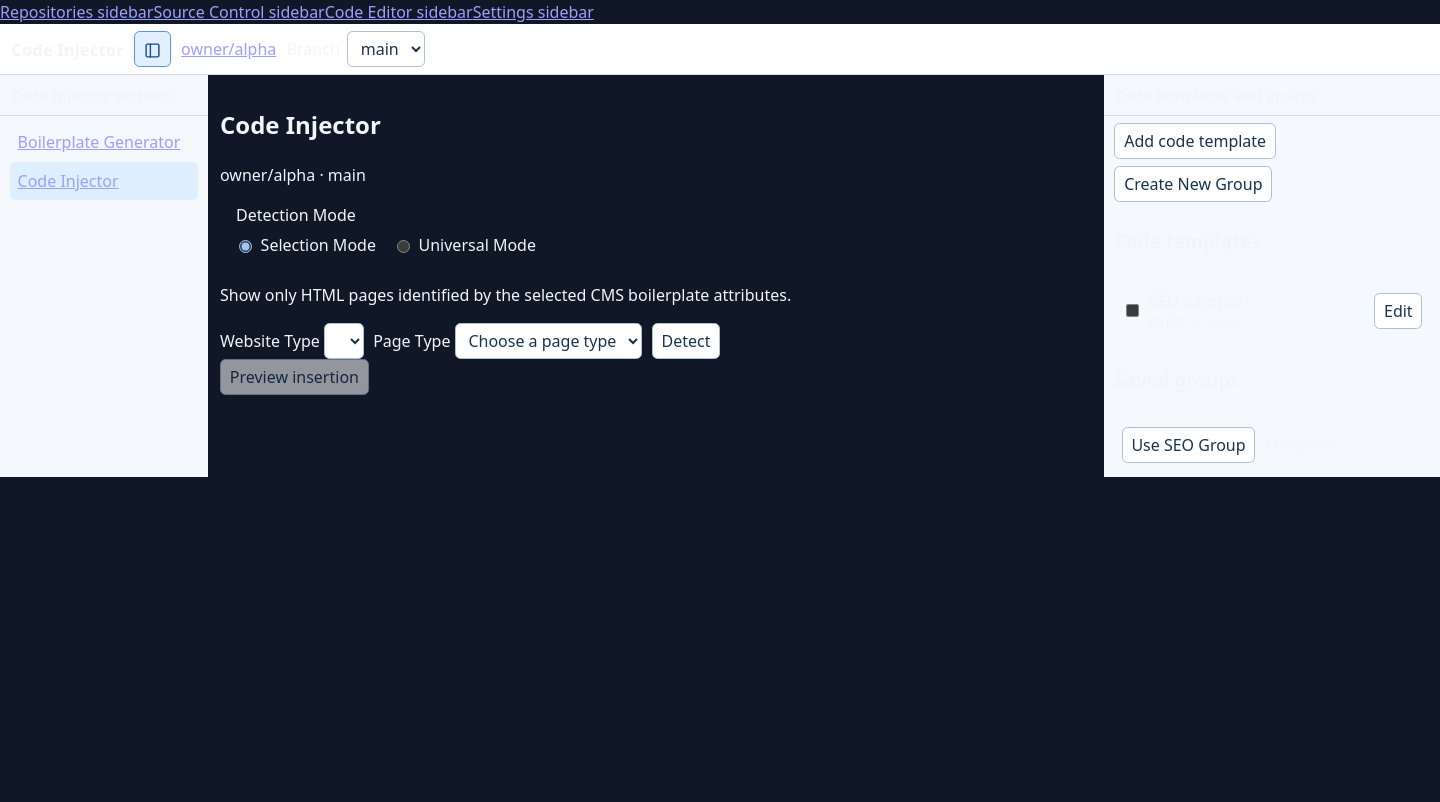
Test: editing a saved template keeps its stable ID and its saved group membership
The width and height of the screenshot is (1440, 802).
Step 1. Click the button with aria-label "Edit template SEO Sample" → point(1398, 311), box [1374,293,1422,329]
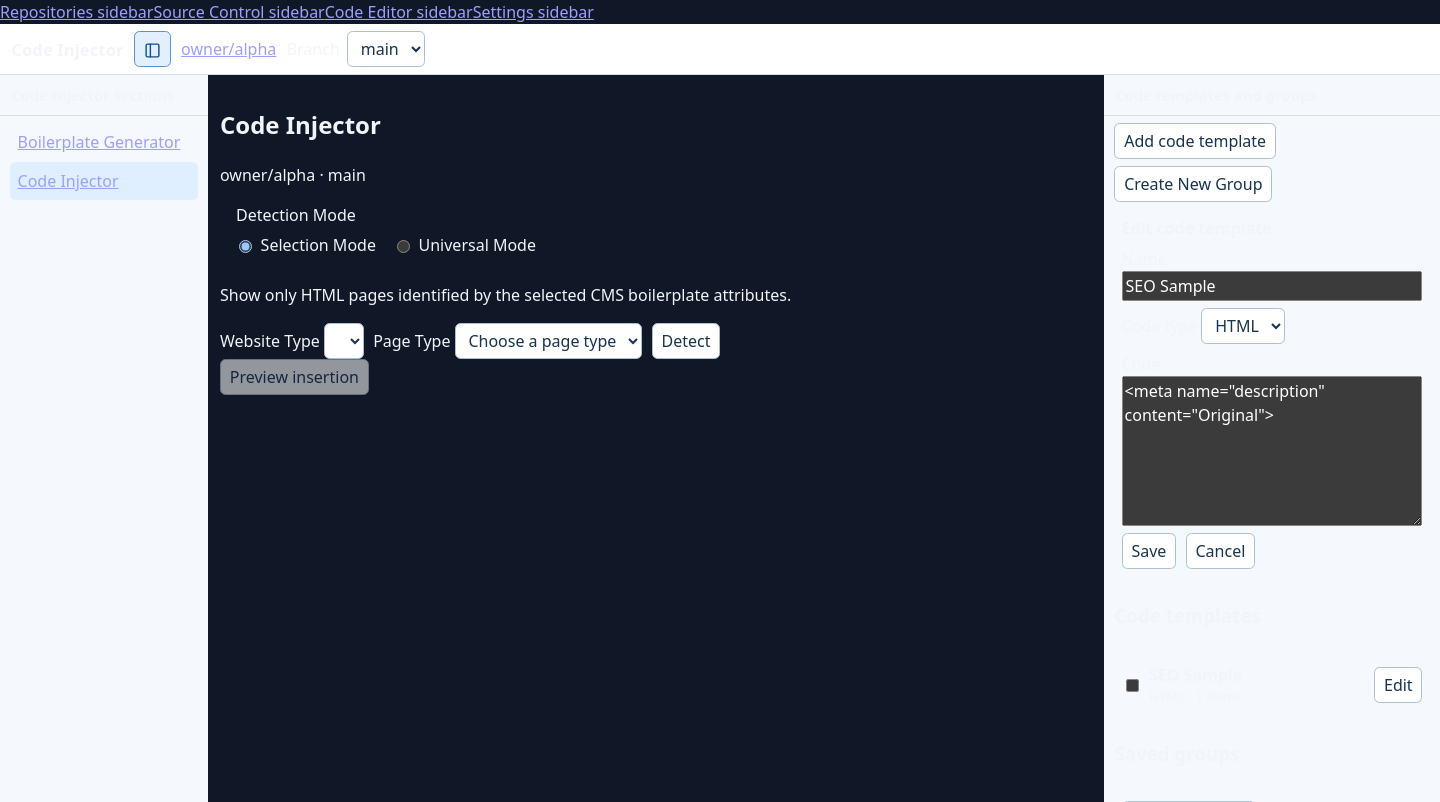
Step 2. Replace the text in the text box labelled "Code" with "<meta name=\"description\" content=\"Updated\">" → point(1272, 451), box [1122,376,1422,526]
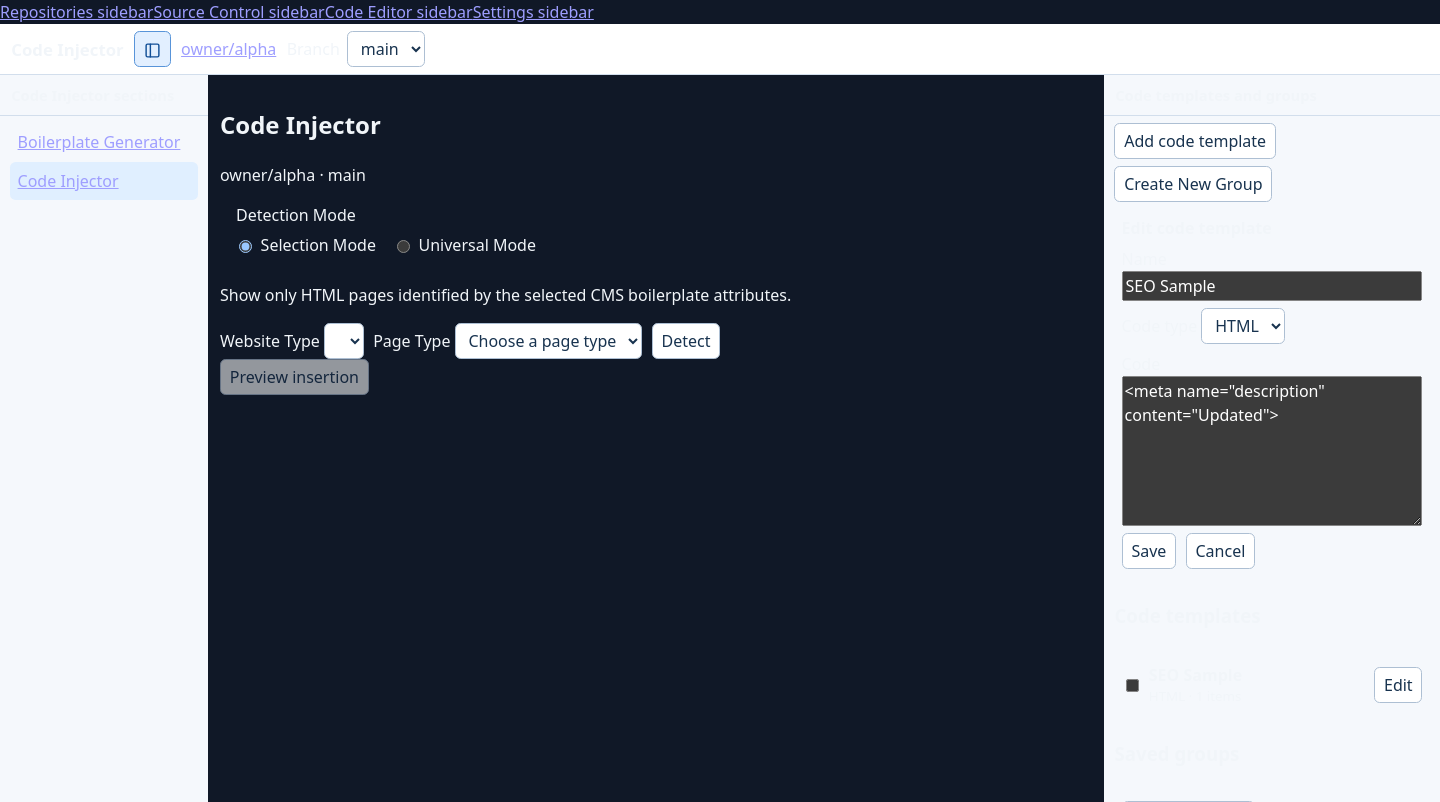
Step 3. Click the button "Save" → point(1149, 551), box [1122,533,1176,569]
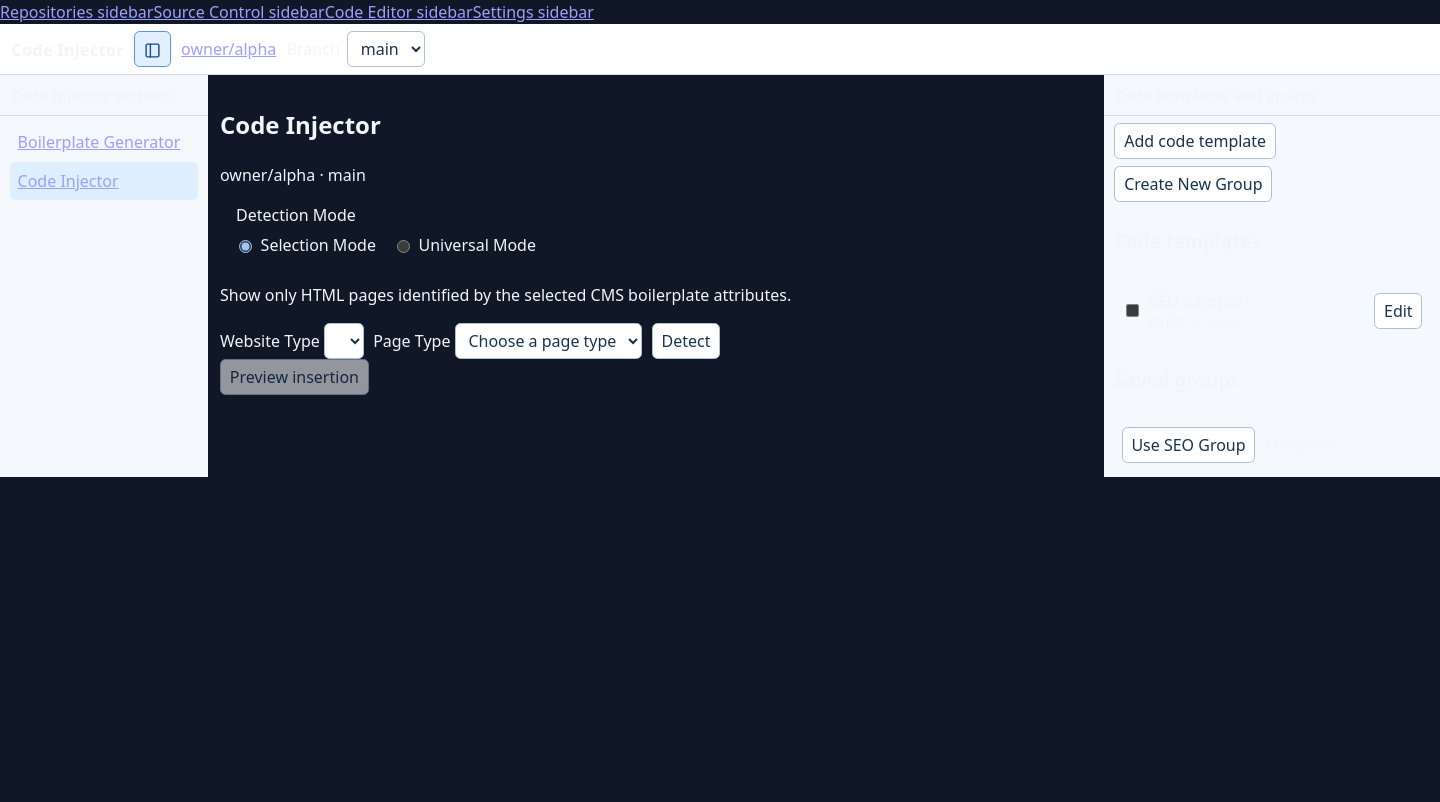
Expected: the button "Use SEO Group" is shown, [1122,427,1255,463]
Step 4. Click the button with aria-label "Edit template SEO Sample" → point(1398, 311), box [1374,293,1422,329]
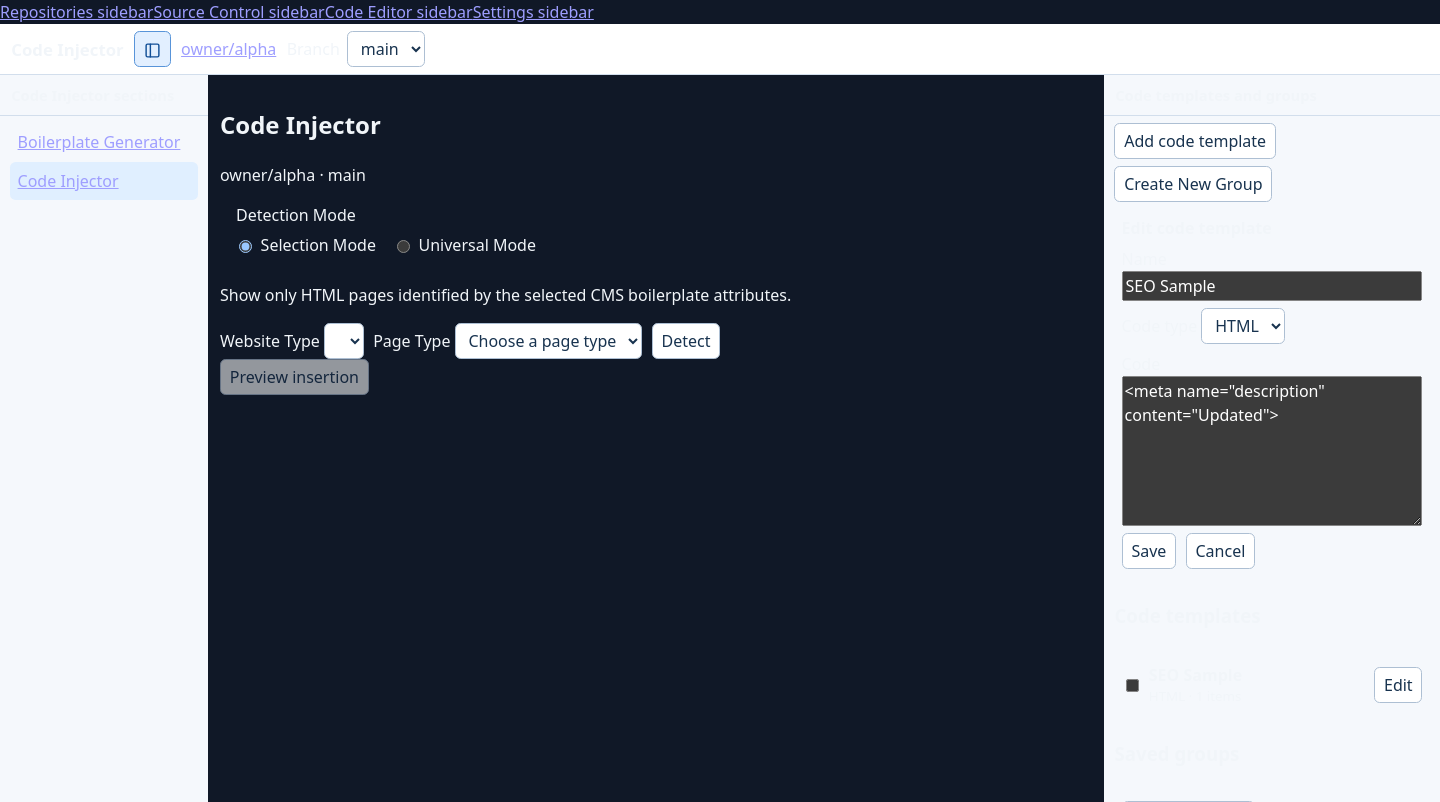
Expected: the text box labelled "Code" holds "<meta name=\"description\" content=\"Updated\">", [1122,376,1422,526]
